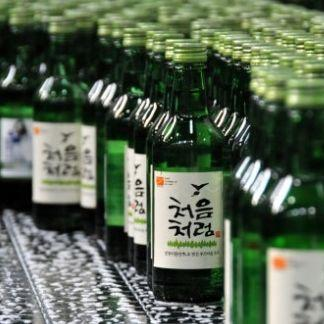soju: (1, 1, 324, 320)
